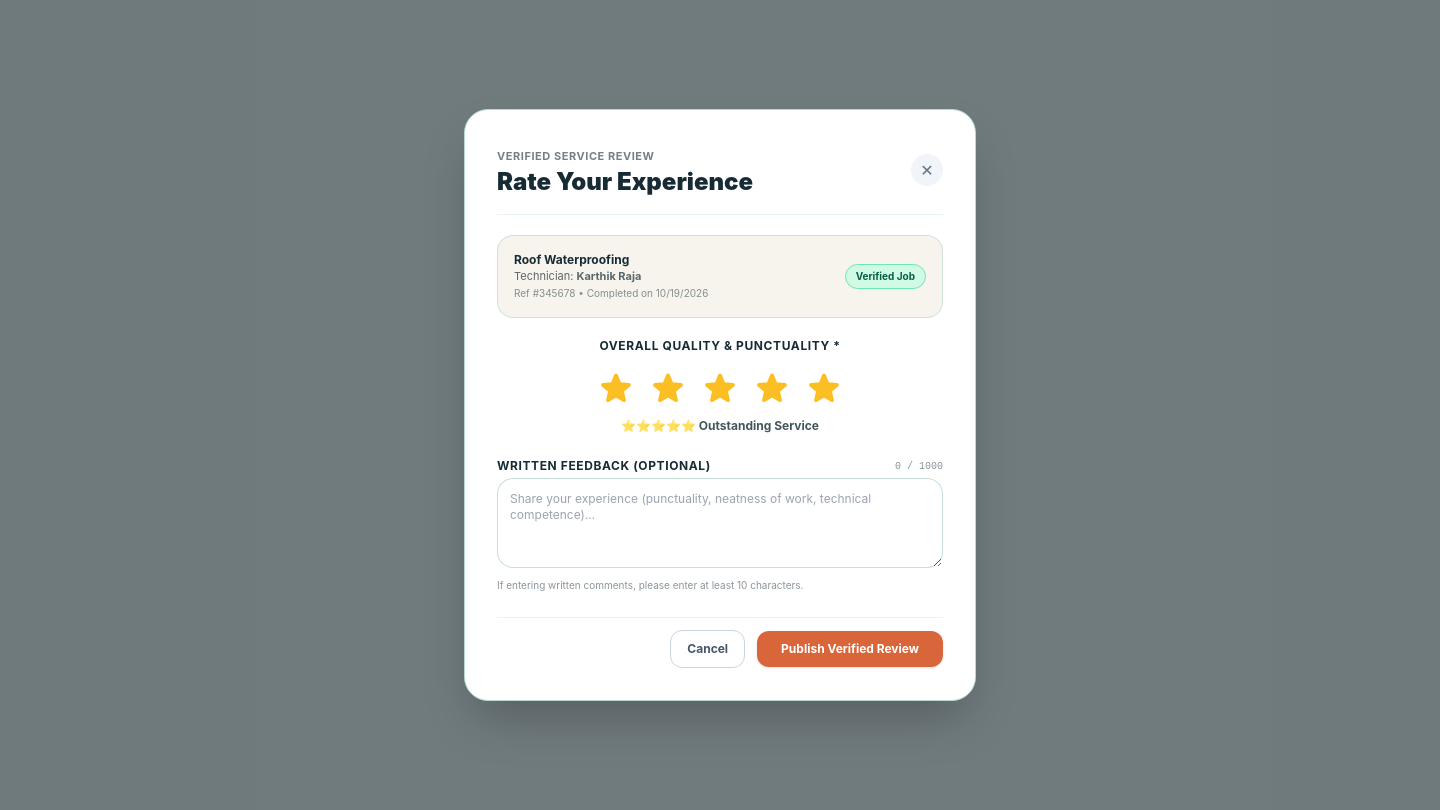
Test case: ReviewModal Component › validates short comment length on submission
Replace the text in the text box with placeholder "Share your experience" with "Too short" at (720, 523), box [497,478,943,568]
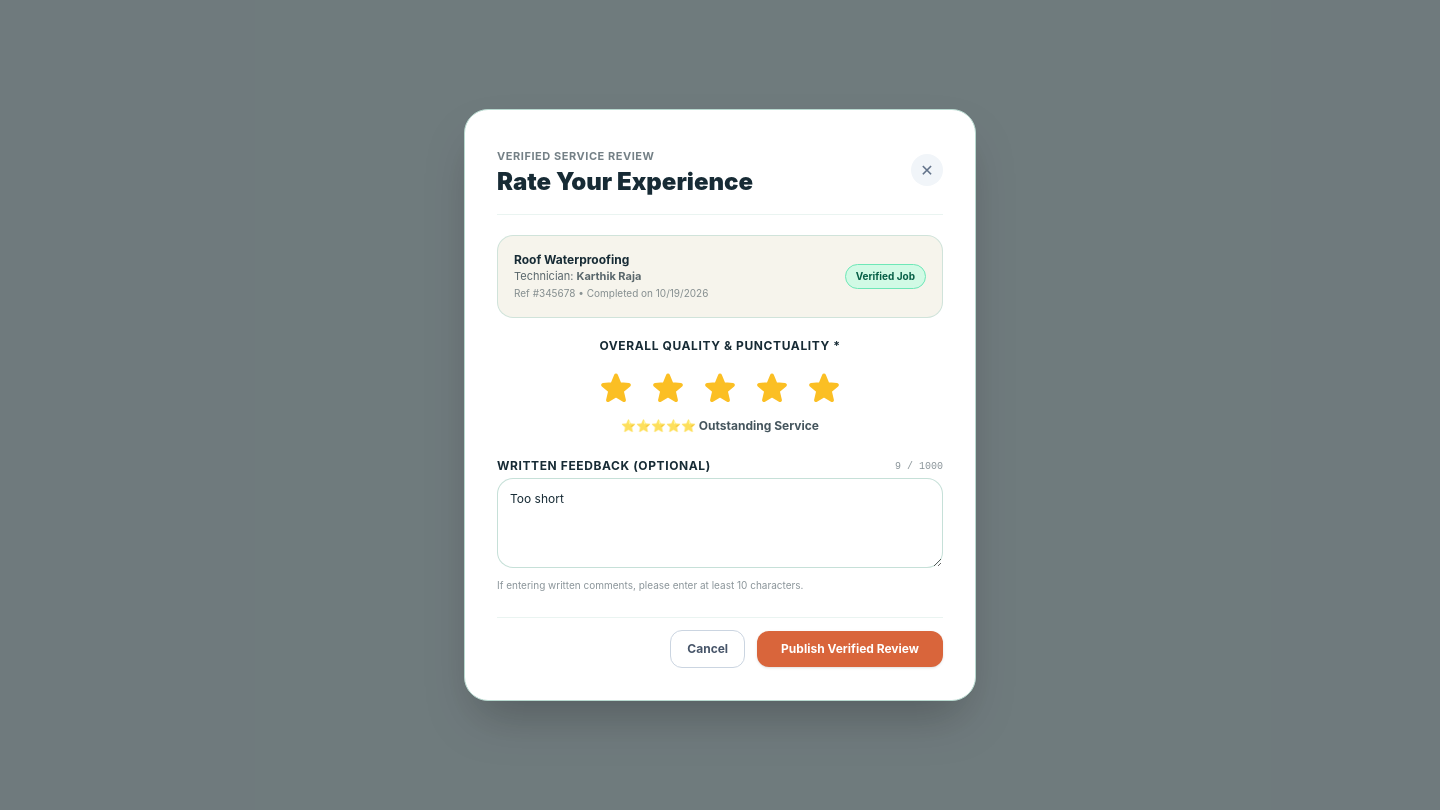
Click the button "Publish Verified Review" at (850, 649), box [757,631,943,667]
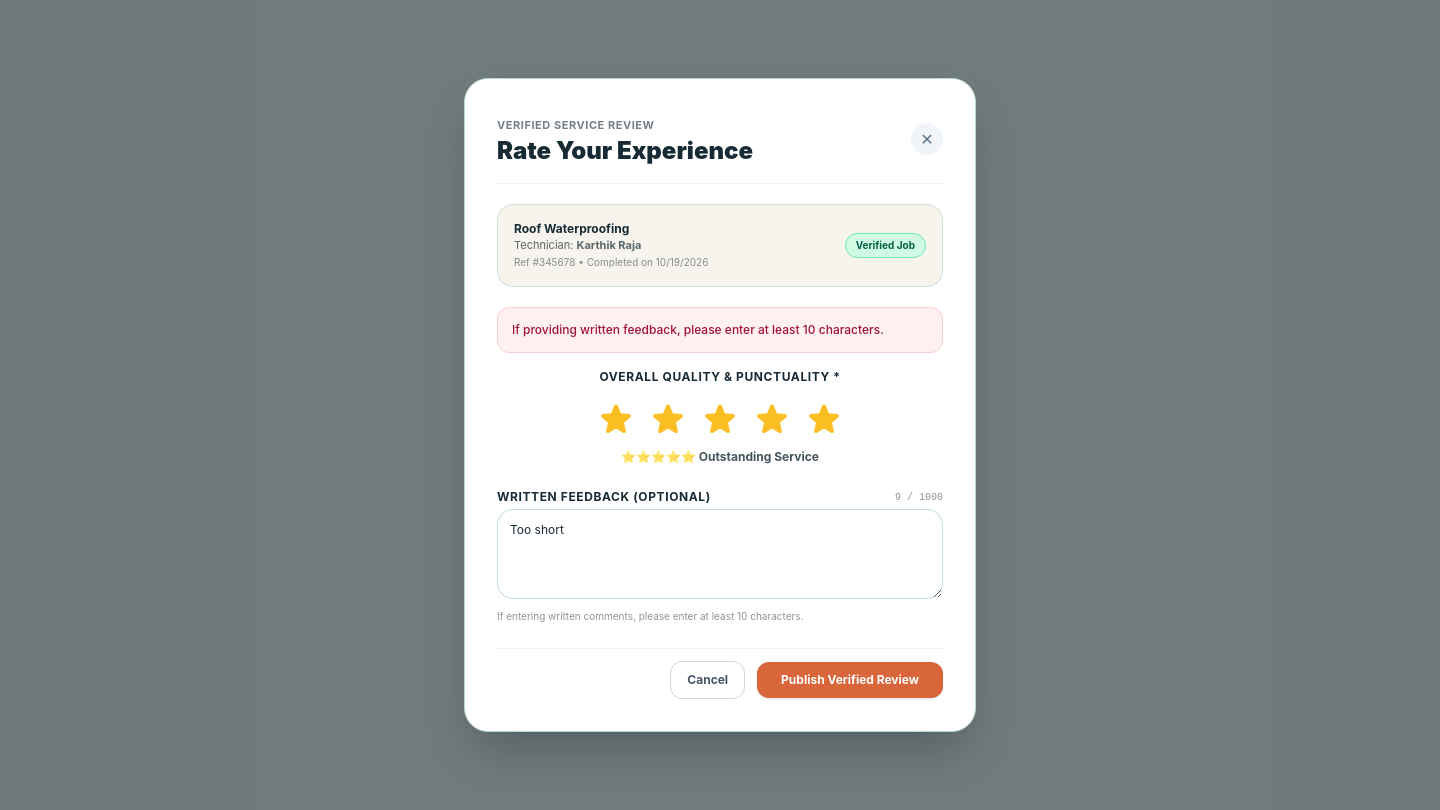
Now the text "If providing written feedback, please enter at least 10 characters." is shown, box [497,307,943,353]
